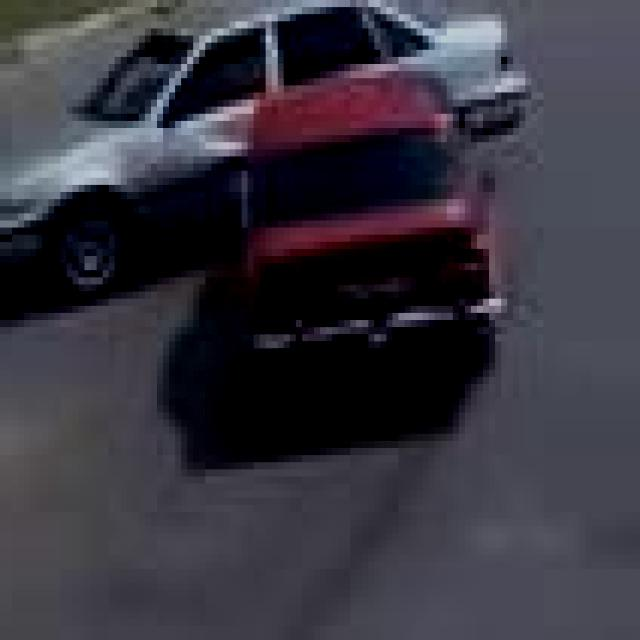accident: (0, 3, 518, 401)
